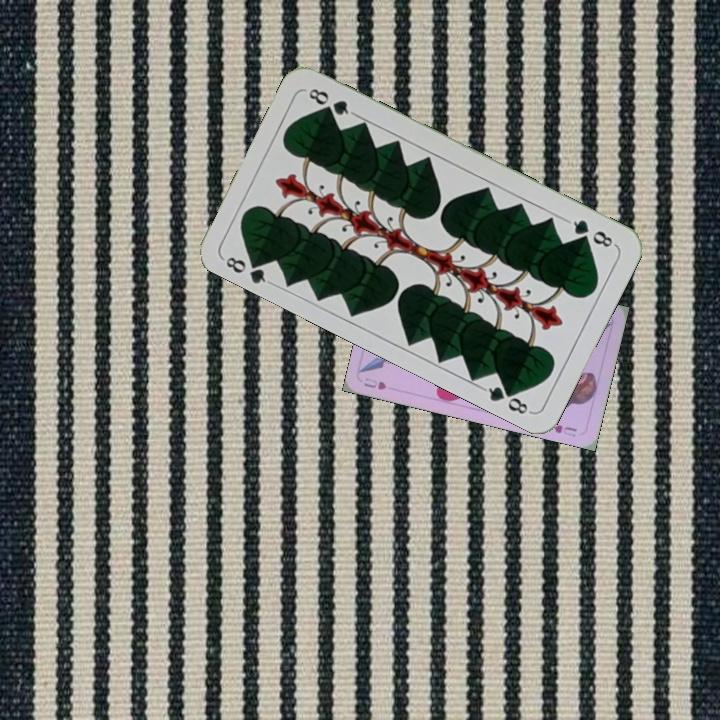G8: (219, 251, 274, 288), (563, 215, 618, 250)
HU: (360, 374, 389, 393)
